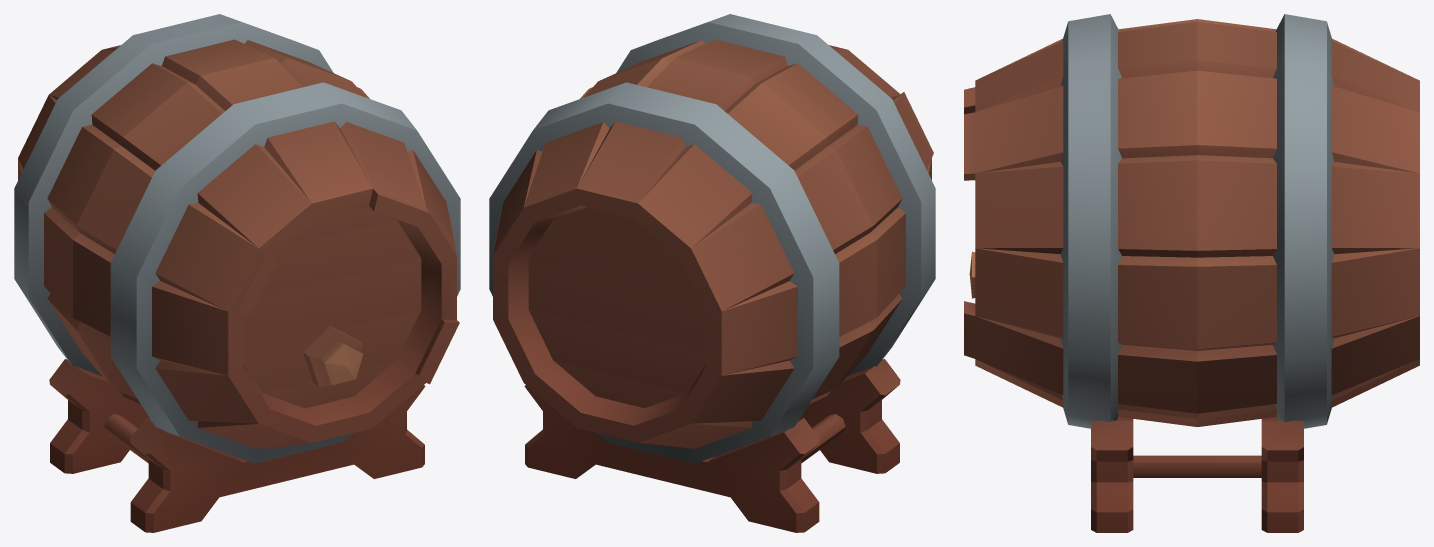
File: fw_keg_oak.glb
The picture shows the model from 3 angles, left to right: view 1: azimuth 30°, elevation 25°; view 2: azimuth 150°, elevation 25°; view 3: azimuth 270°, elevation 25°; orthographic projection. The views are drawn at different scales.
Parts seen in each view (by area): view 1: body; view 2: body; view 3: body.
Boxes of the visible parts, <box> form: body: <box>14,14,460,532</box>; body: <box>489,14,935,532</box>; body: <box>964,14,1419,532</box>.
Size of the model in its own units: 0.99 by 1.13 by 1.1.
